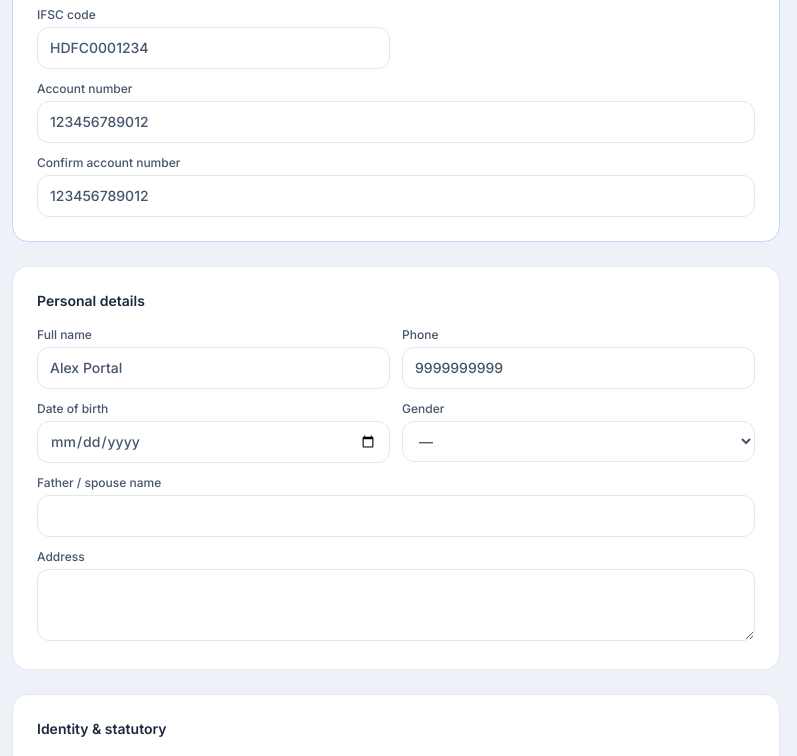
Scenario: employee portal keyboard smoke (RW-P-005) › profile validation errors are announced as alerts
(page scrolled)
Clear the field labelled "Full name" at (214, 368), box x1=37 y1=347 x2=390 y2=389
(page scrolled)
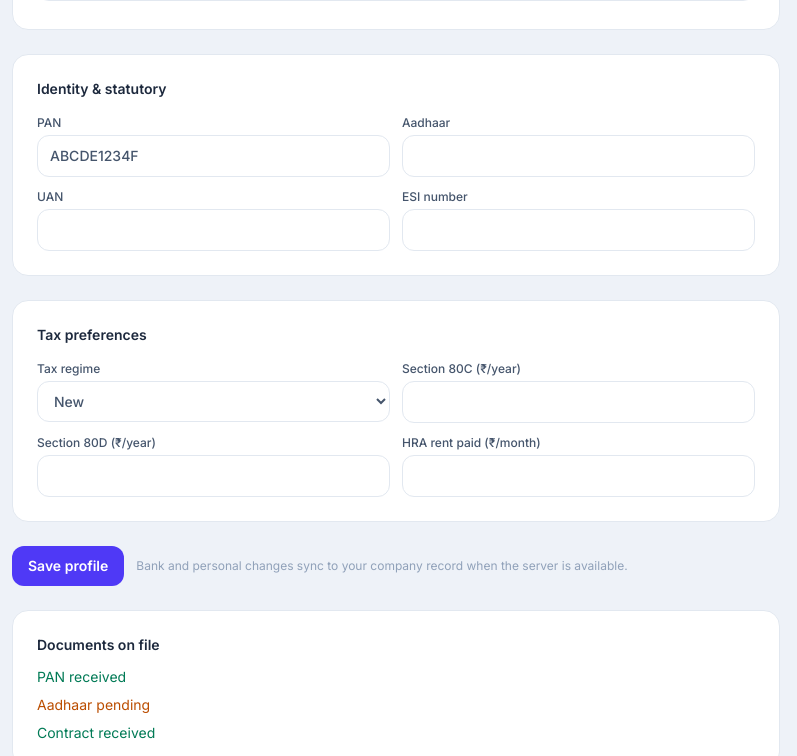
Click the button "Save profile" at (68, 566), box x1=12 y1=546 x2=124 y2=586
(page scrolled)
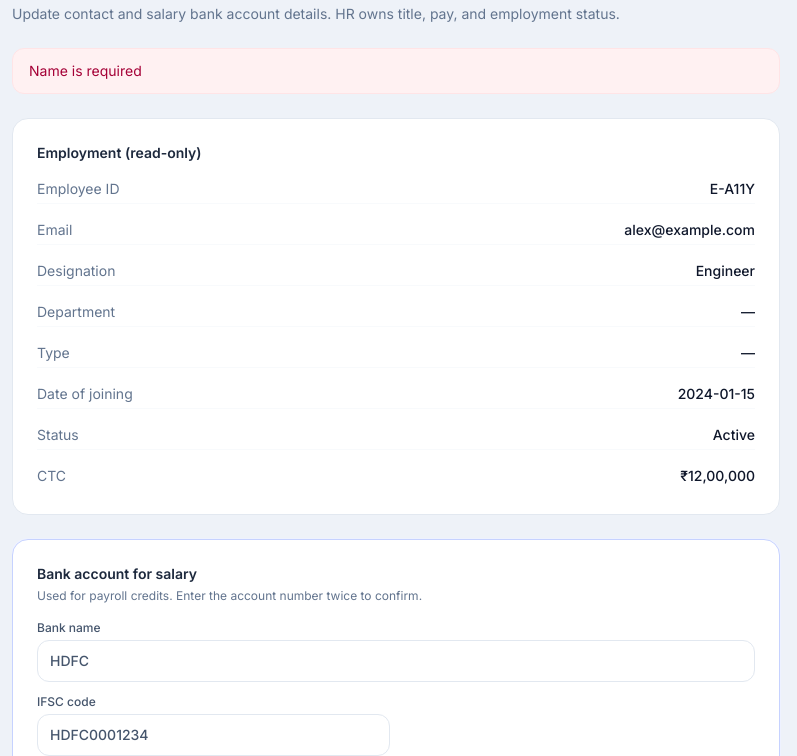
Expected: the message reads "Name is required", x1=29 y1=62 x2=142 y2=79
